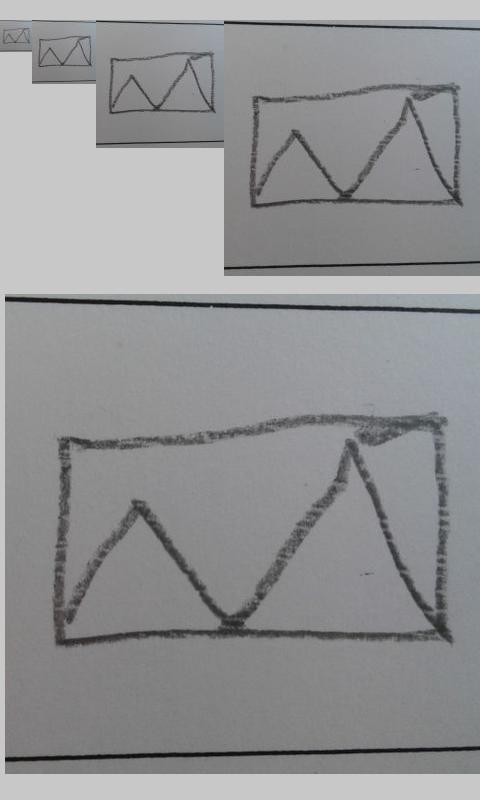image_view: (53, 412, 450, 650), (247, 84, 462, 212), (109, 51, 216, 116), (37, 35, 92, 68), (3, 27, 31, 44)
